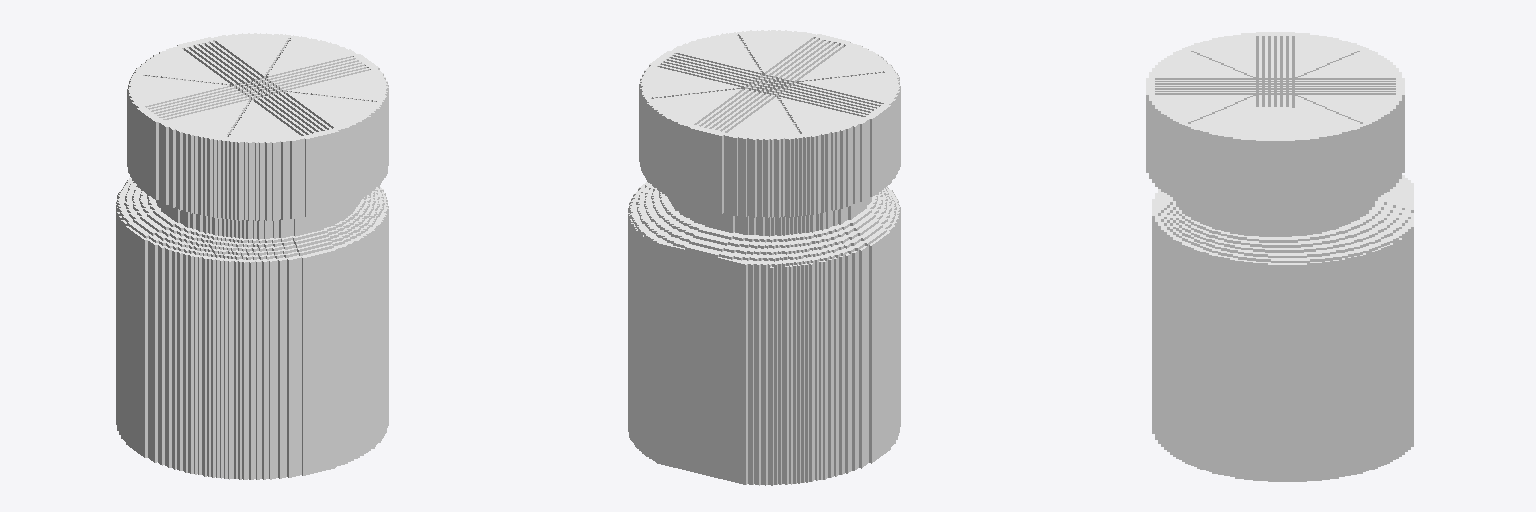
File: BurningPipe.obj
3 views of the same model, side by side, from view 1: azimuth 30°, elevation 25°; view 2: azimuth 150°, elevation 25°; view 3: azimuth 270°, elevation 25° (orthographic).
Visible parts, largest first — view 1: BurningPipe; view 2: BurningPipe; view 3: BurningPipe.
Boxes of the visible parts, x1=… form: BurningPipe: x1=116, y1=33, x2=388, y2=479; BurningPipe: x1=628, y1=30, x2=900, y2=485; BurningPipe: x1=1146, y1=32, x2=1413, y2=481.
Size of the model in its own units: 91 by 126 by 90.